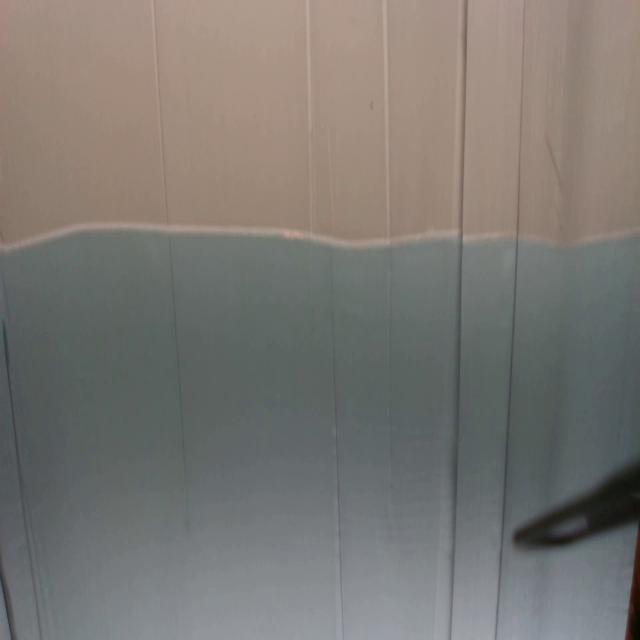crease: (150, 0, 189, 537), (446, 1, 470, 640), (502, 0, 527, 510), (4, 316, 43, 640), (328, 249, 345, 640), (382, 0, 394, 526), (303, 0, 318, 236), (493, 514, 508, 640), (541, 133, 566, 198), (325, 122, 338, 237), (0, 575, 16, 640)
